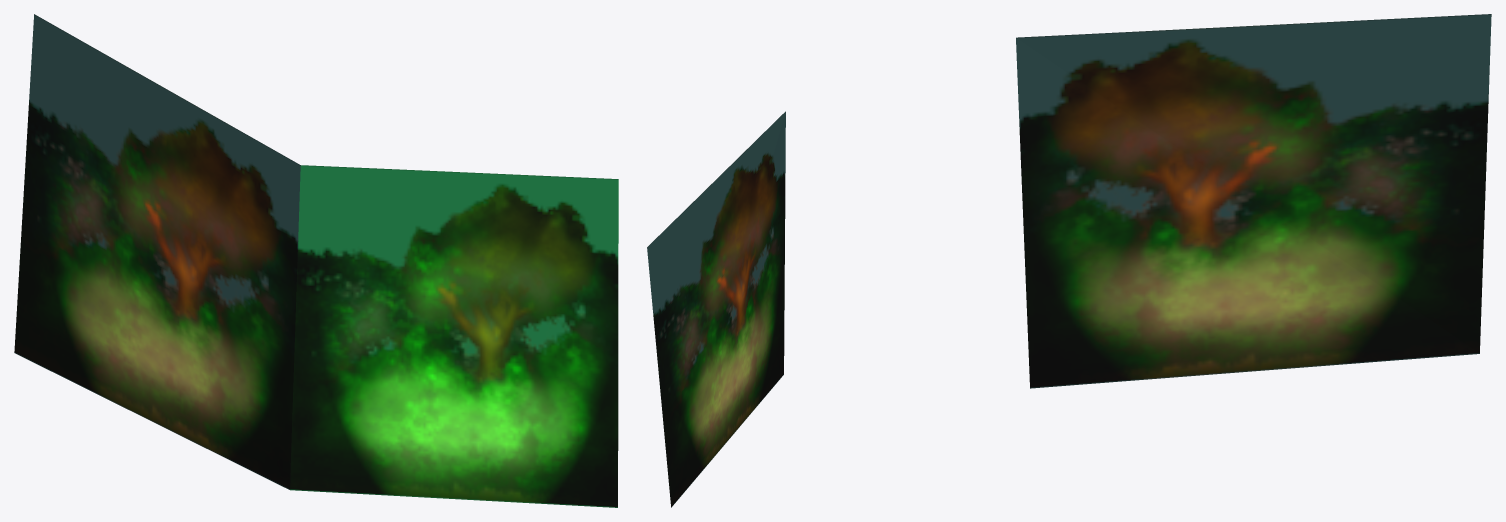
Rendered from tree05.glb.
3 renders of one model, left to right at view 1: azimuth 30°, elevation 25°; view 2: azimuth 150°, elevation 25°; view 3: azimuth 270°, elevation 25°, orthographic. The views are drawn at different scales.
Visible parts, largest first — view 1: tree05; view 2: tree05; view 3: tree05.
Part boxes in pixels (box(x1,y1,x2,y2)): tree05: box(14, 14, 618, 507); tree05: box(647, 111, 785, 507); tree05: box(1016, 14, 1491, 388).
Size of the model in its own units: 1224 by 1307 by 2272.
2 materials, 2 textured.
